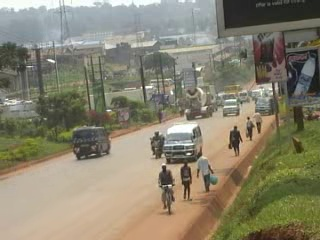Car: (217, 96, 243, 119)
Motorcycle: (148, 129, 164, 159)
